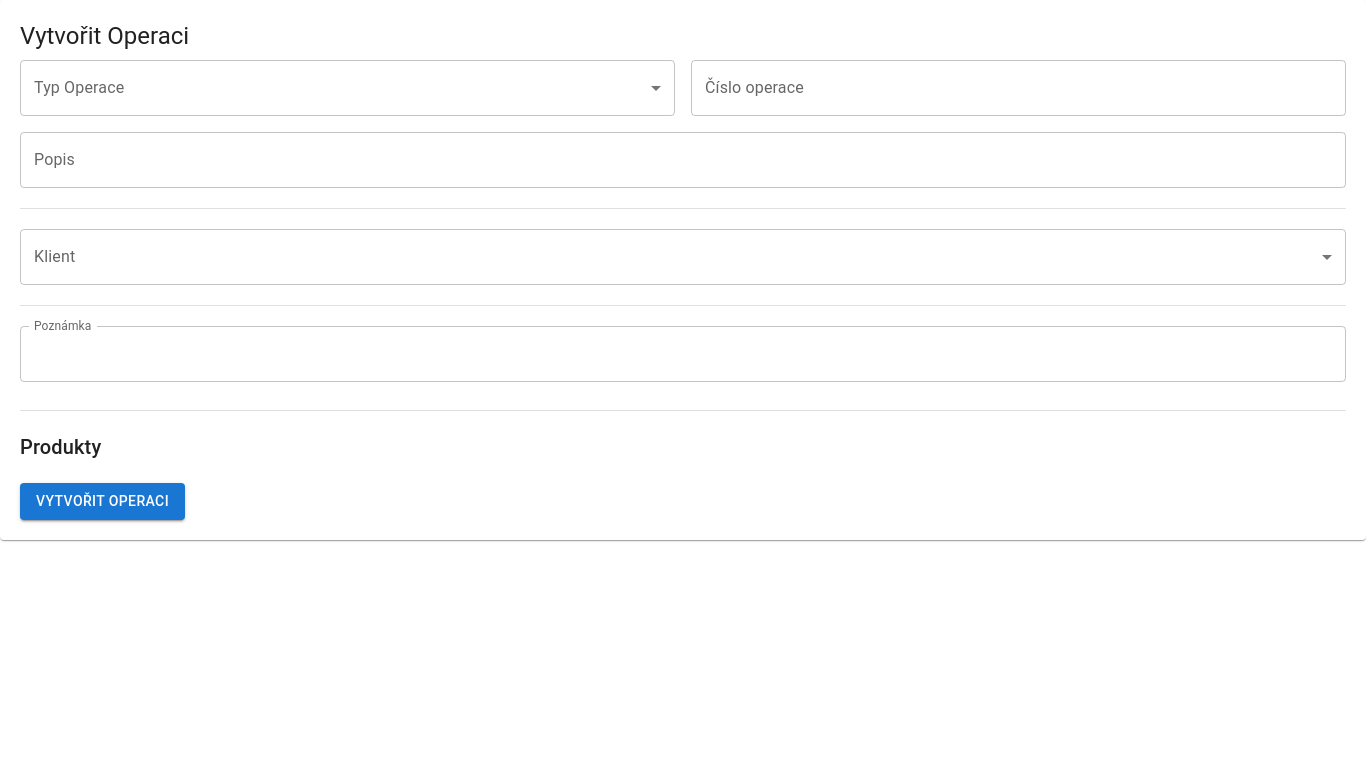
Test case: OperationForm › umožní výběr klienta
Press the mouse on the dropdown named "Klient" next to "Klient" at (683, 257), box [20,229,1346,285]
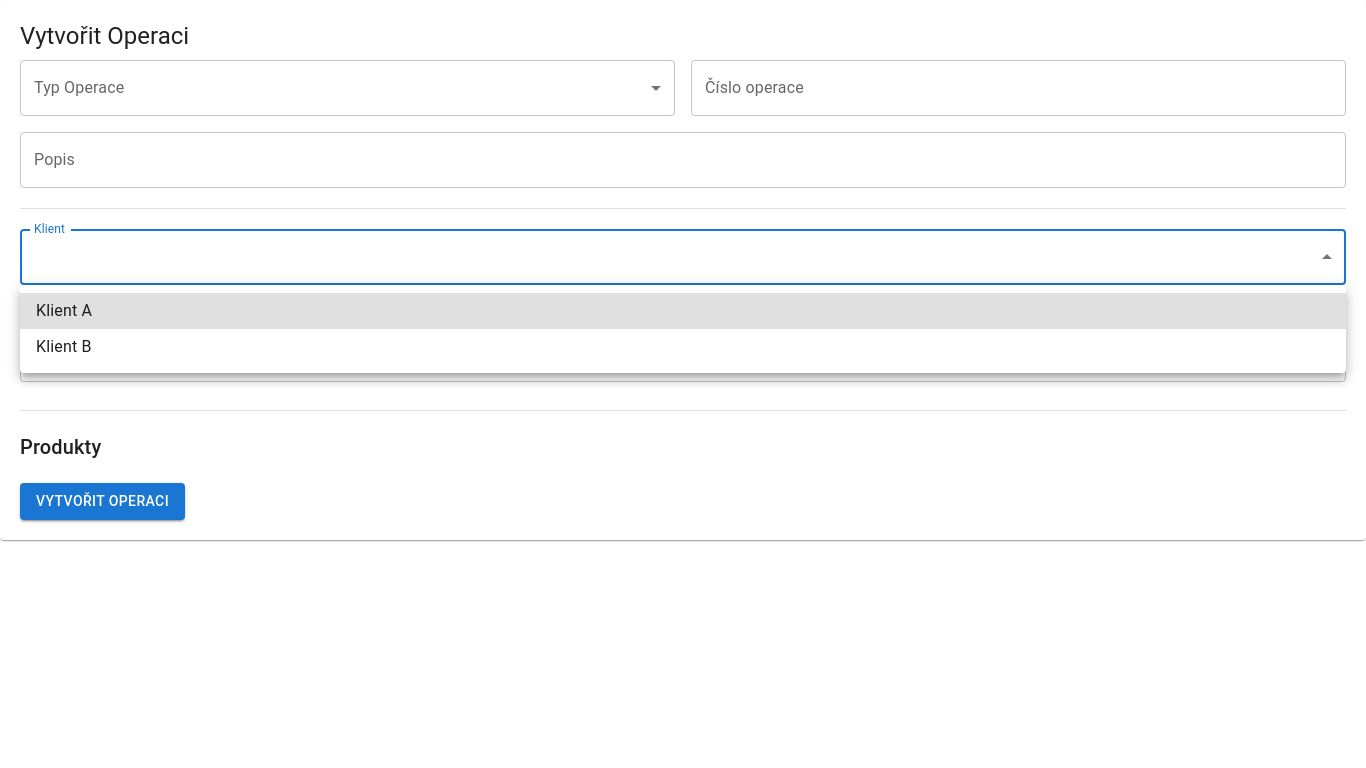
Check: the option "Klient A" is shown
Click the option "Klient A" at (64, 310), box [20,293,1346,329]
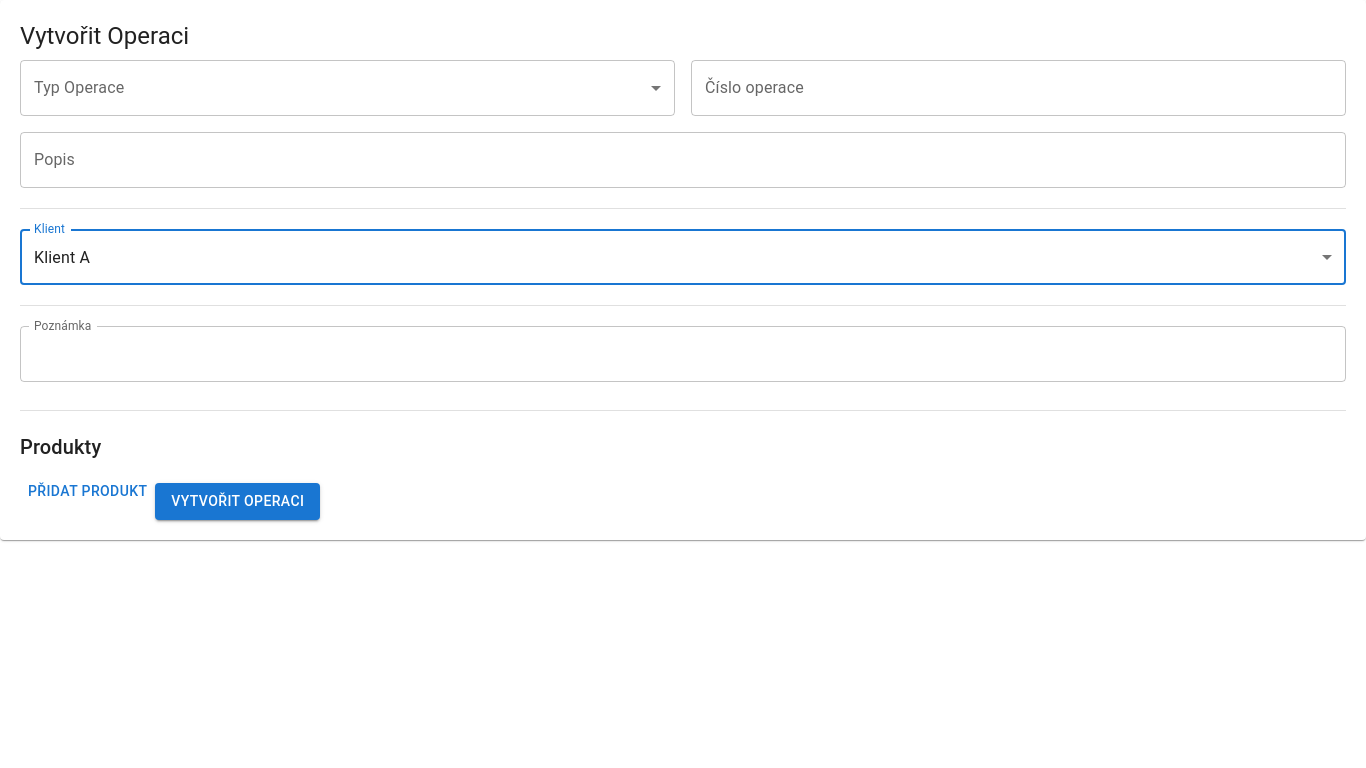
Check: the dropdown labelled "Klient" reads "Klient A", box [34,248,90,267]
